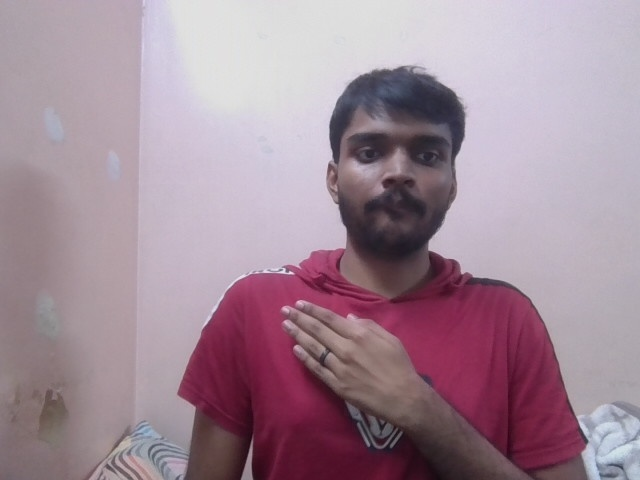Please: (277, 295, 440, 427)
